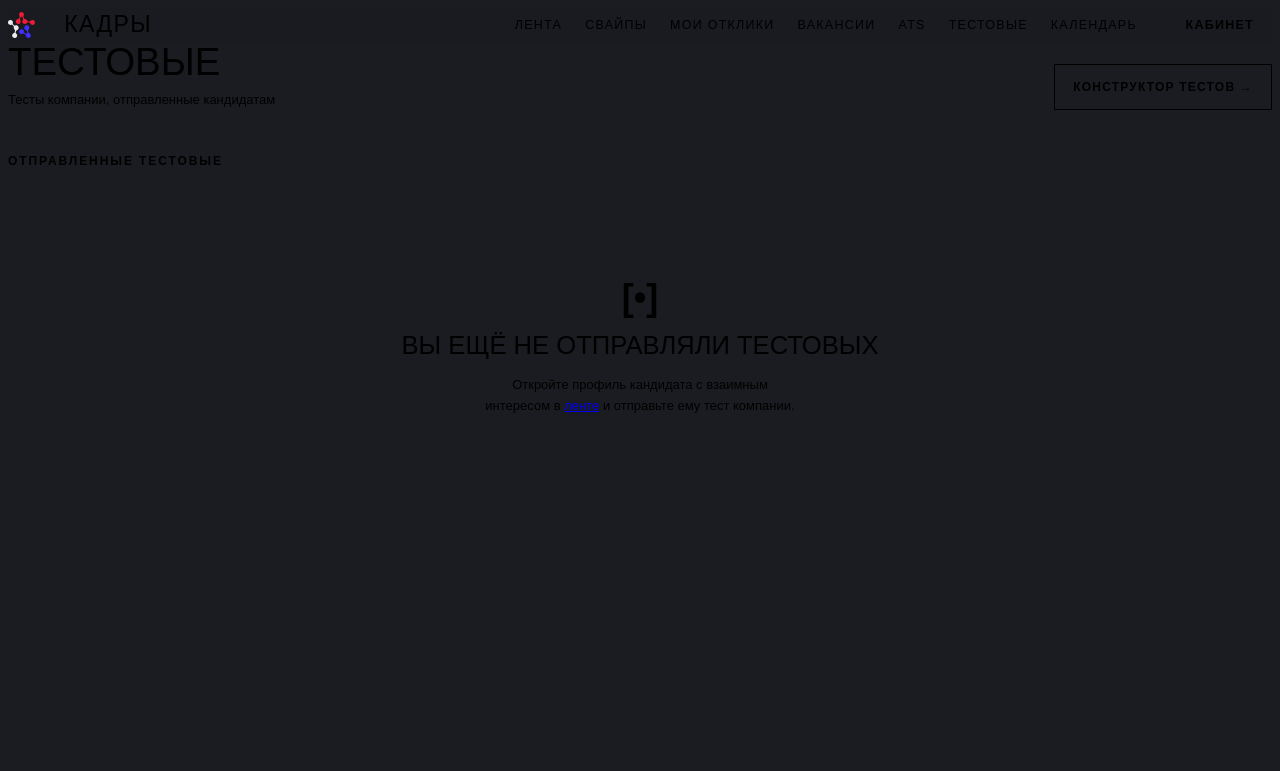
test assignments › gives the employer a separate page for building tests
Click the link "Конструктор тестов →": [1163, 88] box left=1054, top=64, right=1272, bottom=110
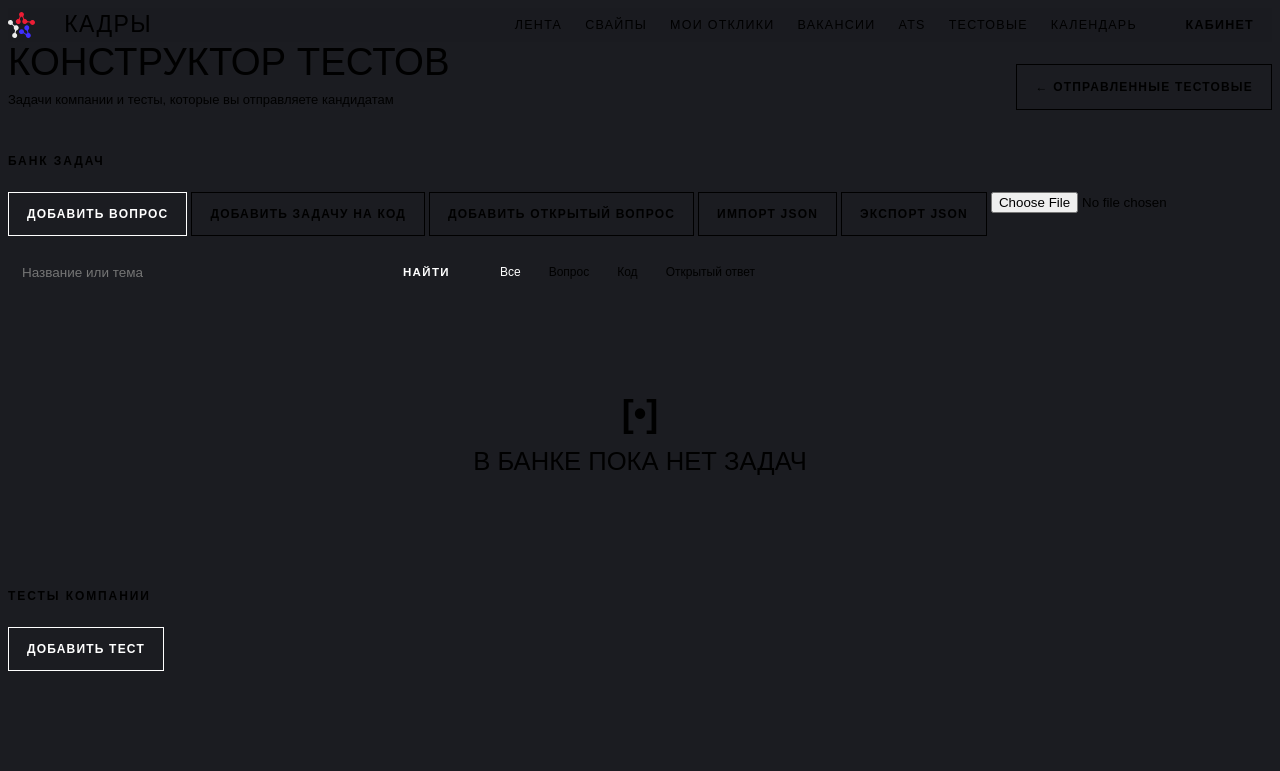
Now the heading "Конструктор тестов" is shown, box left=8, top=42, right=450, bottom=82
Now the text "В банке пока нет задач" is shown, box left=473, top=446, right=807, bottom=477
Now the button "Добавить открытый вопрос" is shown, box left=429, top=192, right=694, bottom=236
